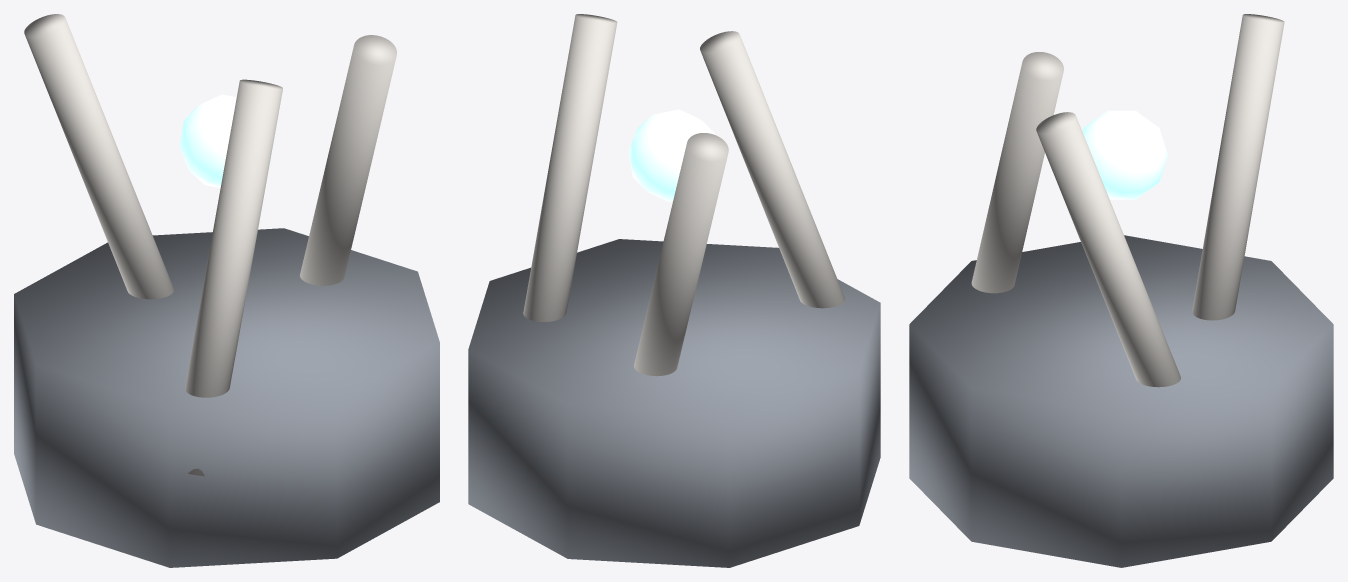
The model's file is prop_tundra_bone_cairn_marker.glb.
The picture shows the model from 3 angles, left to right: view 1: azimuth 30°, elevation 25°; view 2: azimuth 150°, elevation 25°; view 3: azimuth 270°, elevation 25°; orthographic projection. The views are drawn at different scales.
Parts seen in each view (by area): view 1: Tundra_Cairn_Base, Mammoth_Tusk_3, Mammoth_Tusk_2, Mammoth_Tusk_1, Frost_Moss_Lantern; view 2: Tundra_Cairn_Base, Mammoth_Tusk_1, Mammoth_Tusk_3, Mammoth_Tusk_2, Frost_Moss_Lantern; view 3: Tundra_Cairn_Base, Mammoth_Tusk_2, Mammoth_Tusk_1, Mammoth_Tusk_3, Frost_Moss_Lantern.
Boxes of the visible parts, <box> form: Tundra_Cairn_Base: <box>14,228,439,567</box>; Mammoth_Tusk_3: <box>185,79,282,476</box>; Mammoth_Tusk_2: <box>24,14,173,299</box>; Mammoth_Tusk_1: <box>300,35,396,285</box>; Frost_Moss_Lantern: <box>179,94,274,187</box>; Tundra_Cairn_Base: <box>468,239,880,567</box>; Mammoth_Tusk_1: <box>523,14,617,321</box>; Mammoth_Tusk_3: <box>700,31,844,308</box>; Mammoth_Tusk_2: <box>634,133,728,376</box>; Frost_Moss_Lantern: <box>628,109,715,202</box>; Tundra_Cairn_Base: <box>909,235,1333,567</box>; Mammoth_Tusk_2: <box>1192,14,1284,320</box>; Mammoth_Tusk_1: <box>1036,112,1180,387</box>; Mammoth_Tusk_3: <box>971,52,1063,293</box>; Frost_Moss_Lantern: <box>1082,110,1167,199</box>.
Bounding box in the file's own units: 5 × 5.4 × 5.
